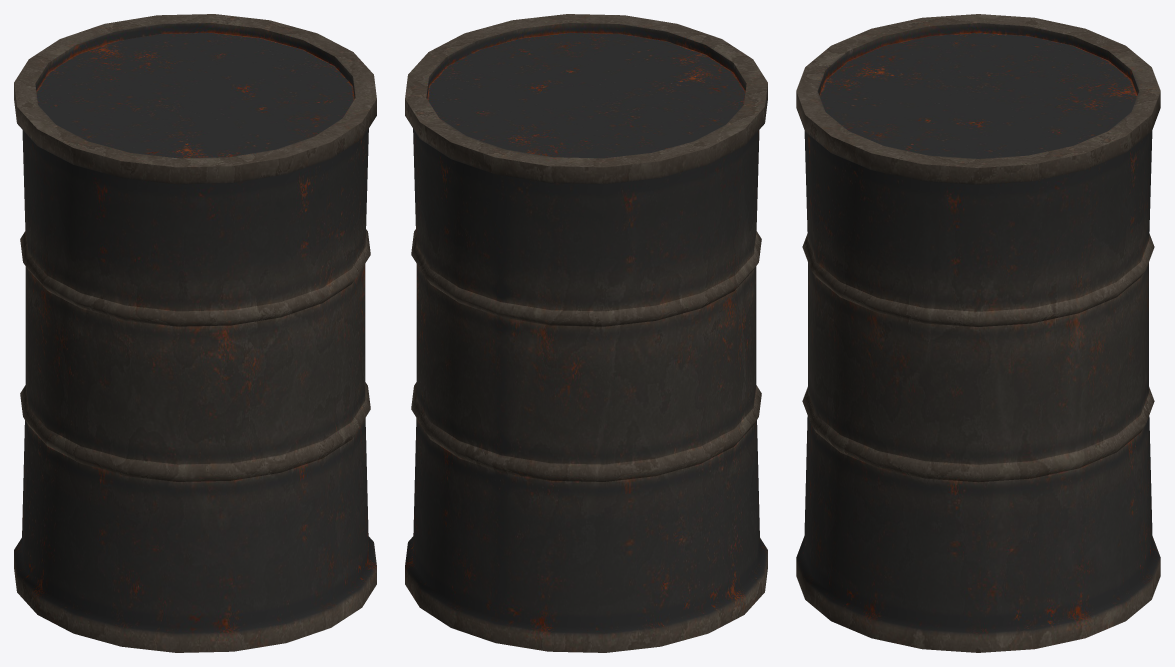
The model's file is Barrel.fbx.
3 views of the same model, side by side, from view 1: azimuth 30°, elevation 25°; view 2: azimuth 150°, elevation 25°; view 3: azimuth 270°, elevation 25° (orthographic).
Visible parts, largest first — view 1: pCylinder16; view 2: pCylinder16; view 3: pCylinder16.
Boxes of the visible parts, <box> form: pCylinder16: <box>14,14,376,652</box>; pCylinder16: <box>405,14,767,652</box>; pCylinder16: <box>796,14,1160,652</box>.
Size of the model in its own units: 1.07 by 1.58 by 1.07.
